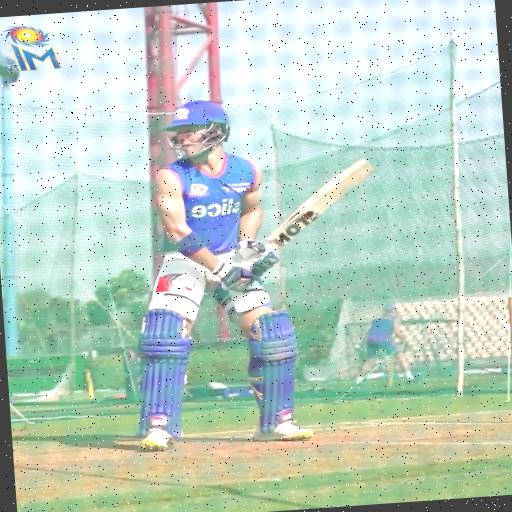Cricket bat: (267, 159, 375, 252)
